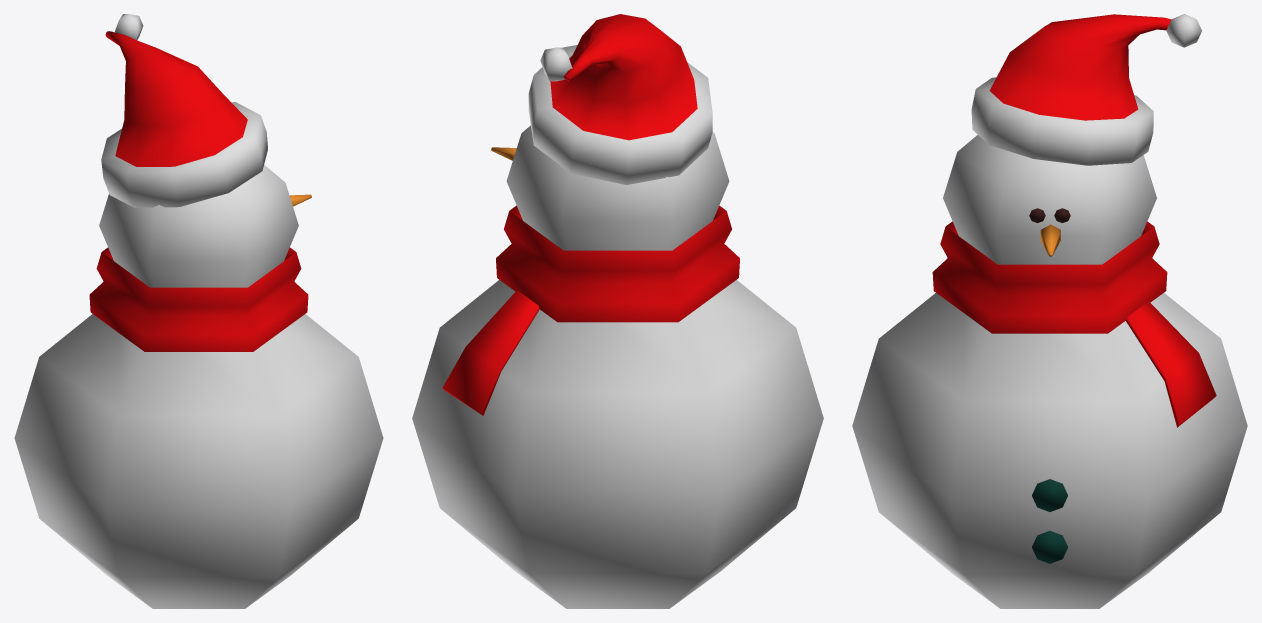
File: snowmanLow.fbx
The picture shows the model from 3 angles, left to right: view 1: azimuth 30°, elevation 25°; view 2: azimuth 150°, elevation 25°; view 3: azimuth 270°, elevation 25°; orthographic projection. The views are drawn at different scales.
Visible parts, largest first — view 1: snowmanLow; view 2: snowmanLow; view 3: snowmanLow.
Boxes of the visible parts, x1=… form: snowmanLow: x1=14, y1=14, x2=383, y2=608; snowmanLow: x1=412, y1=14, x2=823, y2=608; snowmanLow: x1=852, y1=14, x2=1247, y2=608.
Bounding box in the file's own units: 0.8423 × 1.55 × 0.969.
